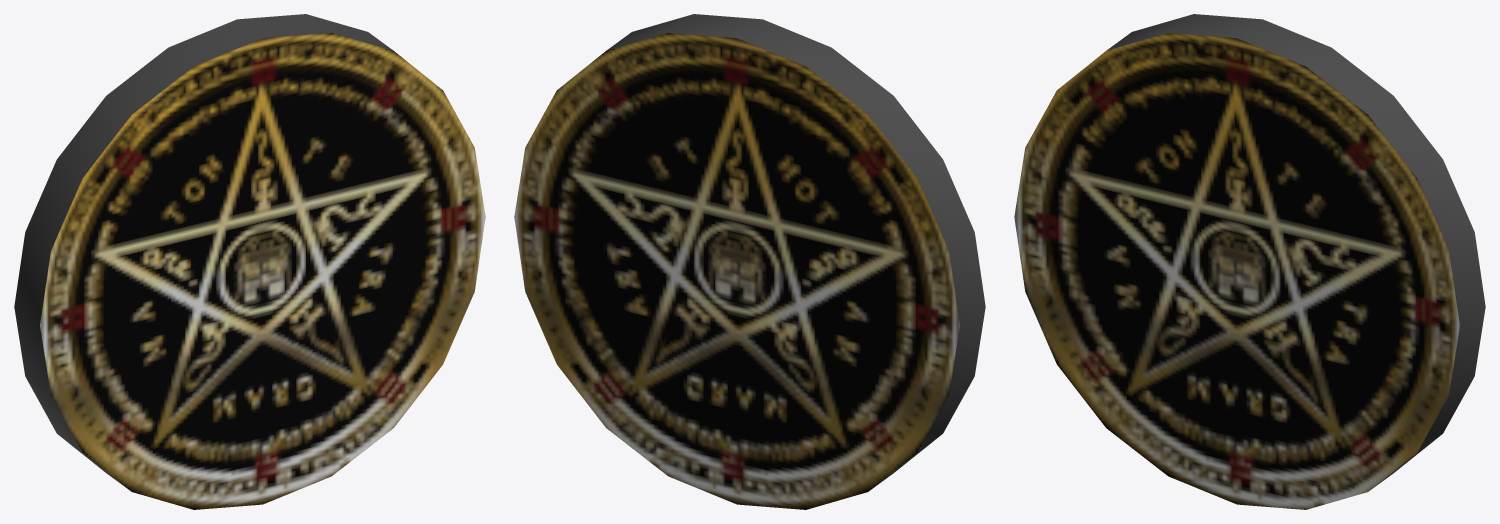
The model's file is kuon.ico.obj.
The picture shows the model from 3 angles, left to right: view 1: azimuth 30°, elevation 25°; view 2: azimuth 150°, elevation 25°; view 3: azimuth 330°, elevation 25°; orthographic projection.
Size of the model in its own units: 5 by 5 by 0.5.
1 material, 1 textured.
